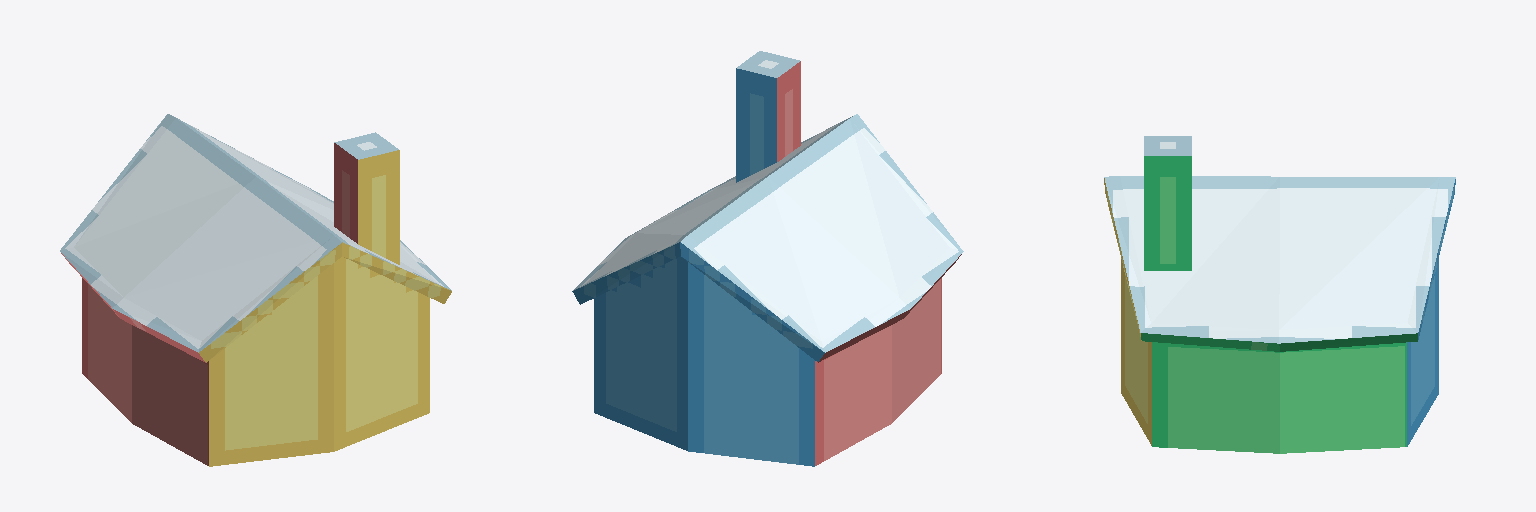
3 renders of one model, left to right at view 1: azimuth 30°, elevation 25°; view 2: azimuth 150°, elevation 25°; view 3: azimuth 270°, elevation 25°, orthographic.
Visible parts, largest first — view 1: cuboid; view 2: cuboid; view 3: cuboid.
Part boxes in pixels (x1,y1,x2,y2): cuboid: (60,114,451,466); cuboid: (572,51,963,466); cuboid: (1104,136,1455,453).
Bounding box in the file's own units: 1.3 × 1.19 × 1.38.
1 materials, 1 textured.